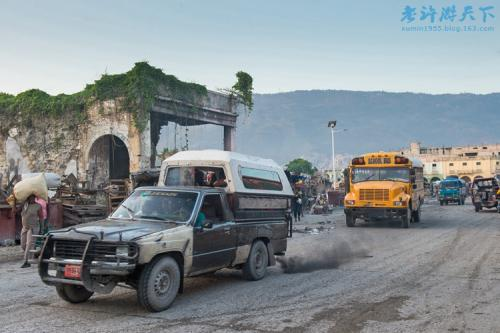smoke: (274, 246, 373, 275)
